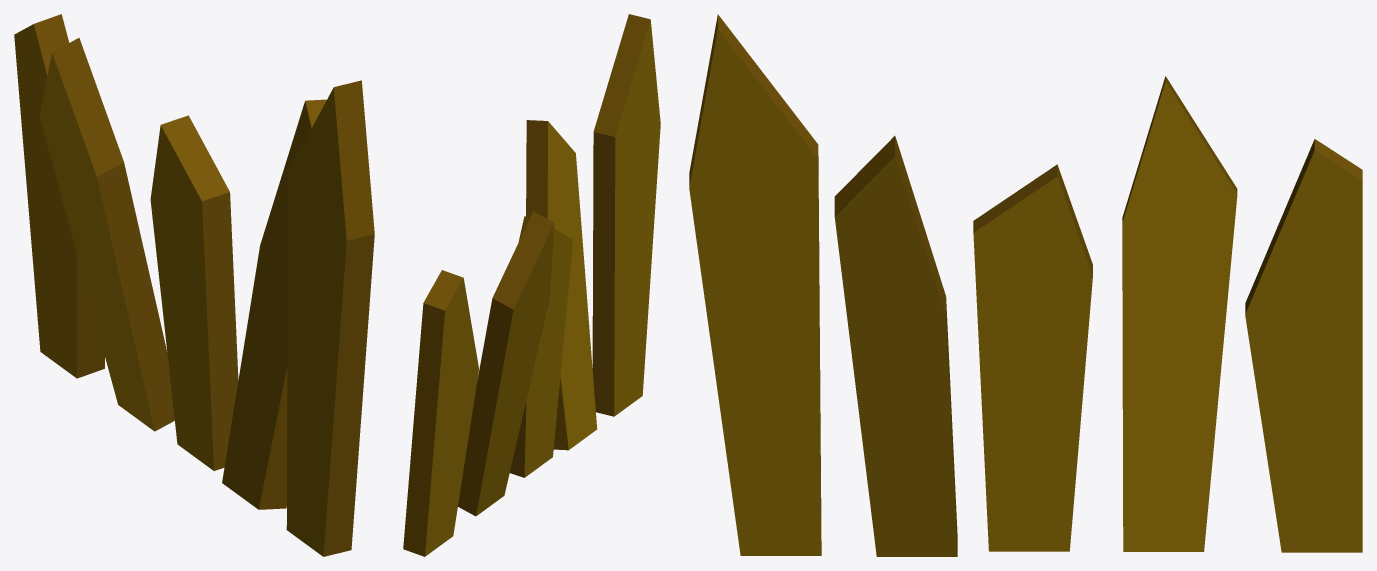
Rendered from fence.glb.
The picture shows the model from 3 angles, left to right: view 1: azimuth 30°, elevation 25°; view 2: azimuth 150°, elevation 25°; view 3: azimuth 270°, elevation 25°; orthographic projection. The views are drawn at different scales.
Visible parts, largest first — view 1: Cube; view 2: Cube; view 3: Cube.
Boxes of the visible parts, bbox=[...] form: Cube: bbox=[14, 14, 374, 556]; Cube: bbox=[403, 14, 660, 556]; Cube: bbox=[689, 14, 1362, 556].
Bounding box in the file's own units: 2.22 × 6.43 × 7.41.
